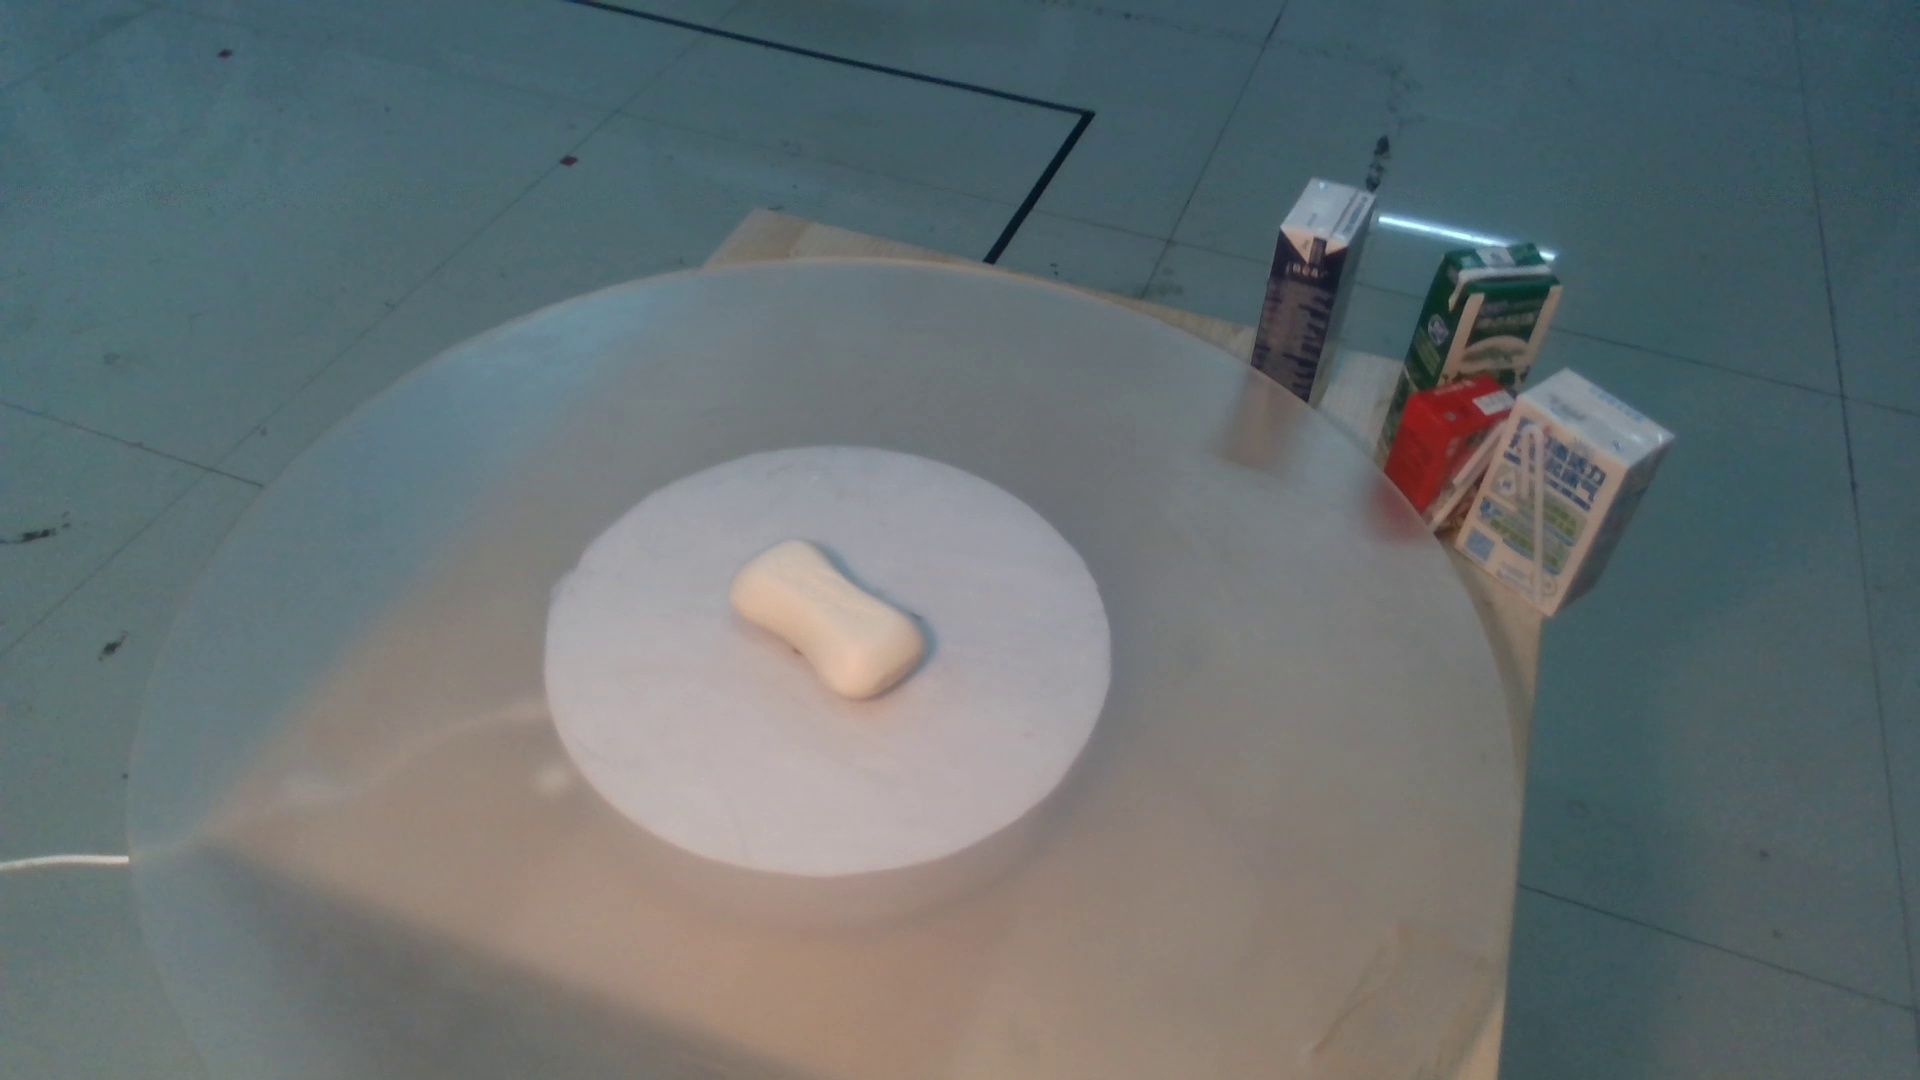CA003_1: (708, 517, 959, 713)
